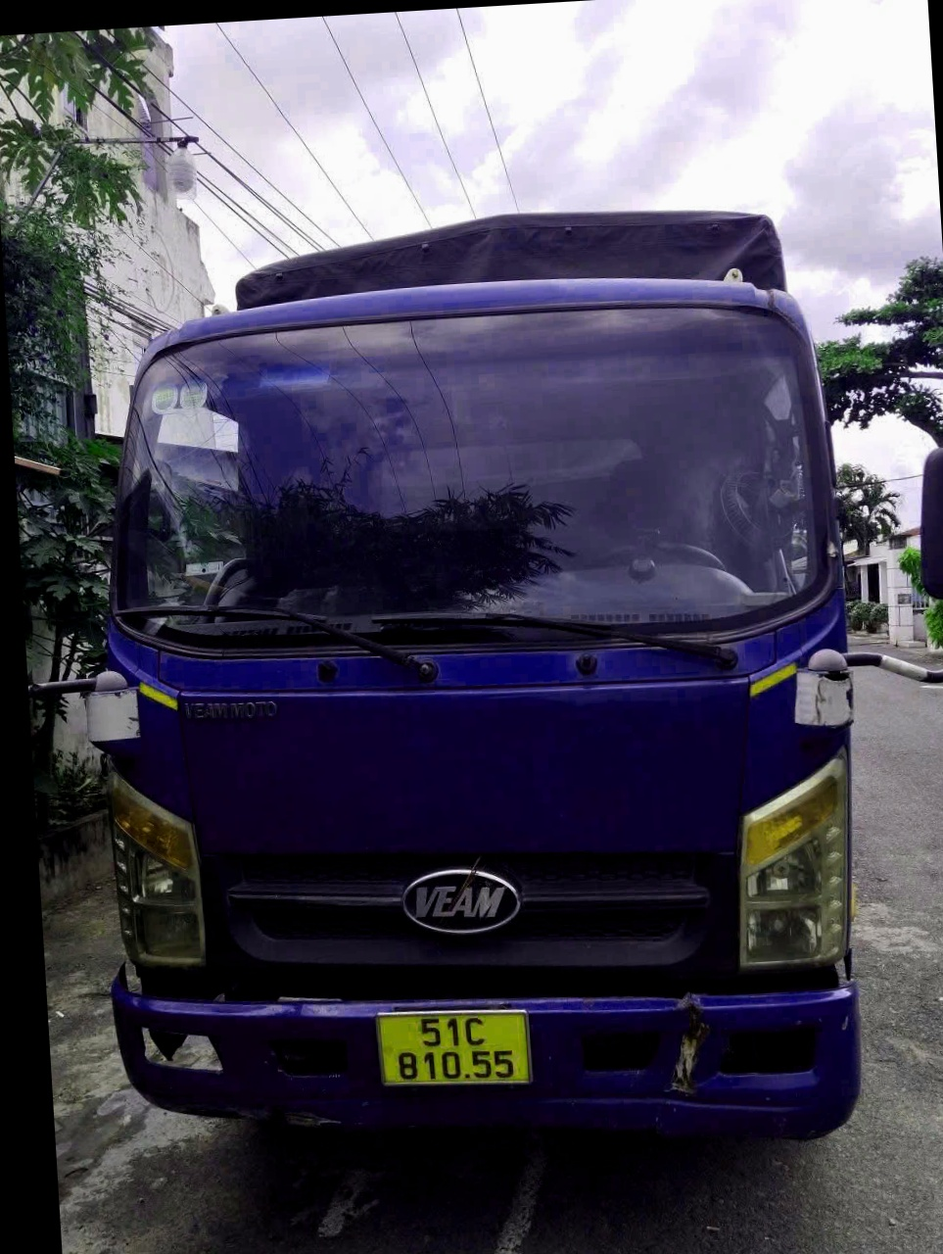Bien-so: (314, 960, 474, 1044)
